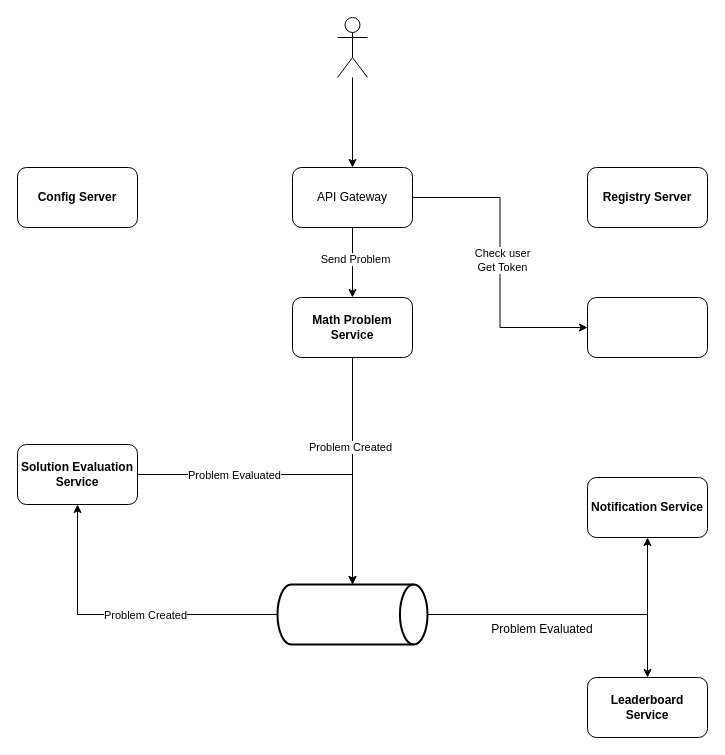
The diagram is 725 pixels wide and 755 high, and some of its shapes have lost their labels. Each missing label, with the centre of its shape:
Client: point 352,47
Message Broker: point 352,614
User Management Service: point 647,327
